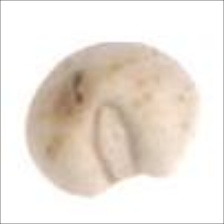L5: (90, 98, 153, 190), (42, 44, 99, 85)
L6: (20, 39, 202, 202)
